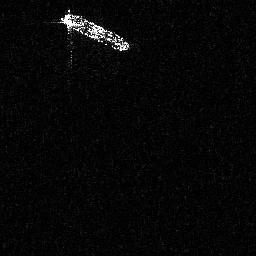ship: (48, 7, 128, 69)
